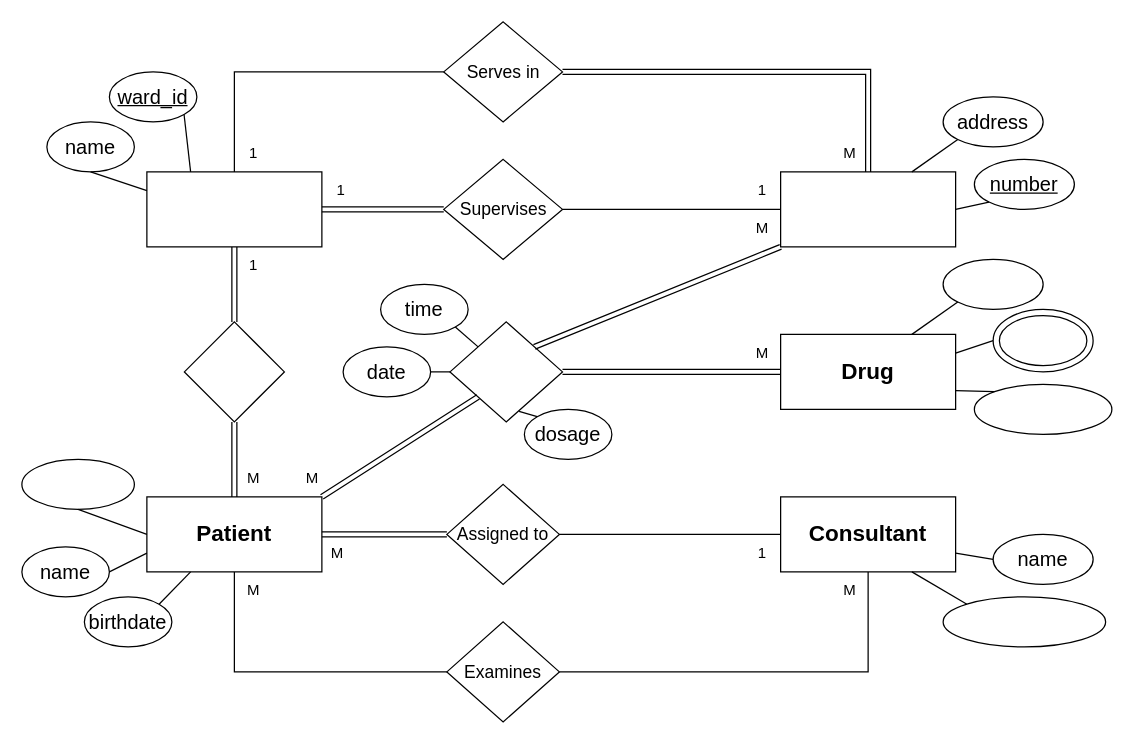
Some shapes in this 1134 by 744 pixel diagram are drawn without their labels. The shapes that lost their labels are listed below. From the top down, each one's box as (x1, y1, x2, y2) in pixels, then its label:
(146, 171, 322, 247): Ward
(779, 171, 956, 247): Nurse
(942, 258, 1043, 309): code
(998, 314, 1087, 366): brand name
(183, 321, 284, 422): Hosts
(449, 321, 562, 422): Gives
(973, 383, 1112, 434): rec_dosage
(21, 458, 134, 509): patient_id
(942, 596, 1106, 647): consultant_id
